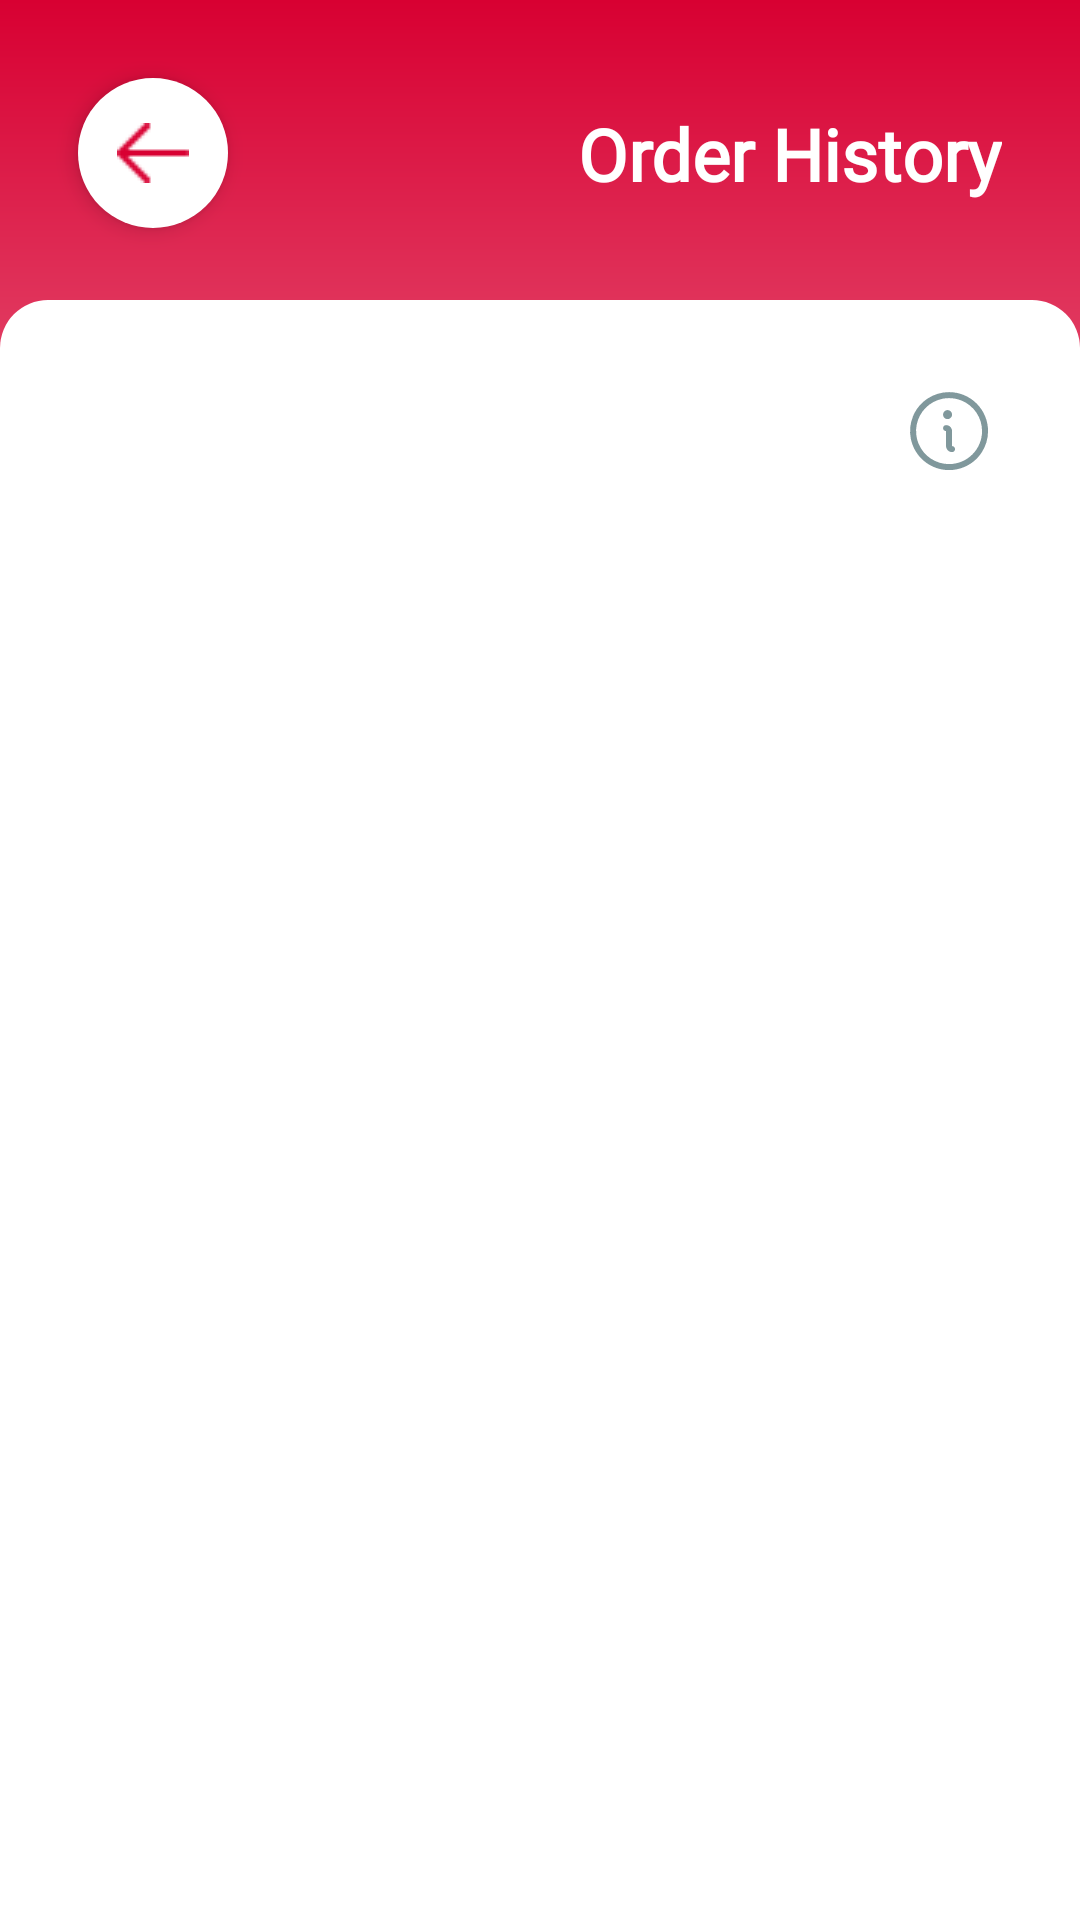

Point at icon controls on the screen. Image size 1080x1920, points as (x=x, y=y).
Back: (x=153, y=153)
information: (x=949, y=431)
